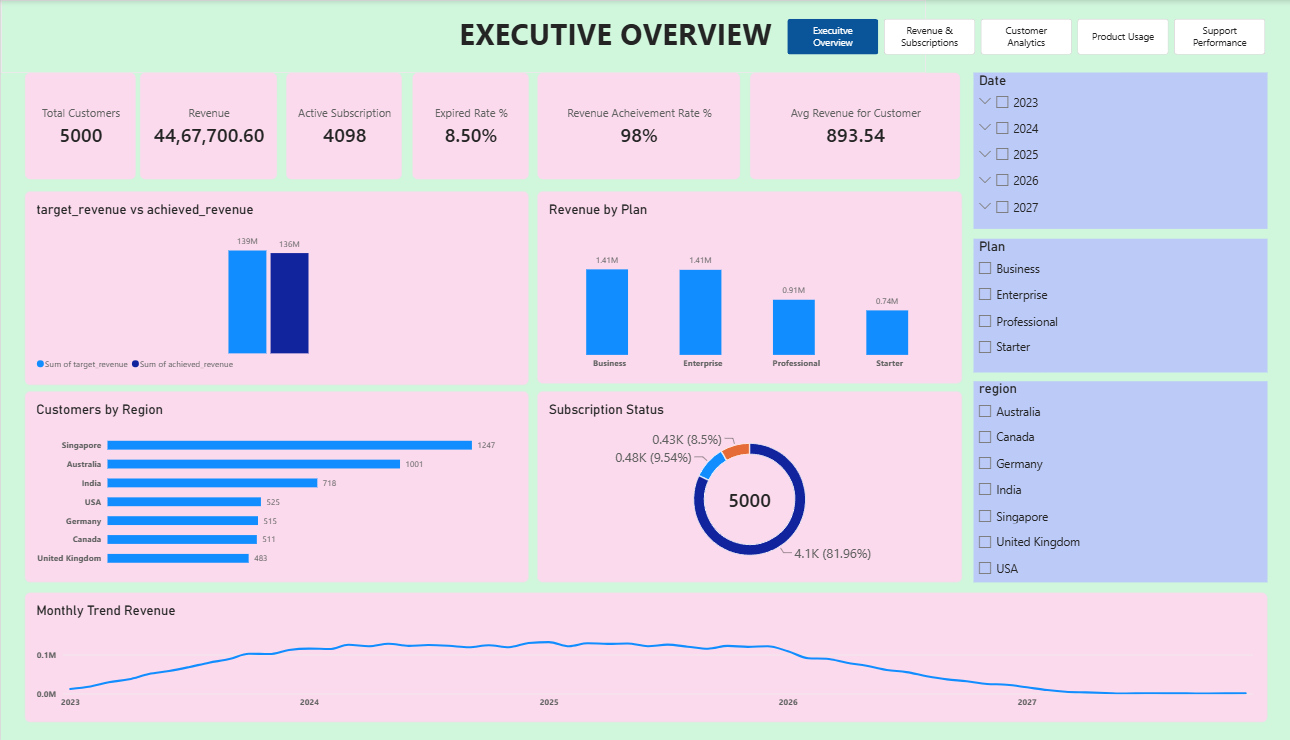

The dashboard page shown, as its layout file describes it:
{"tool":"powerbi","page":{"name":"Execuitve Overview","canvas":[1920,1080],"ordinal":0},"visuals":[{"type":"textbox","box":[0,0,1340,105],"z":0},{"type":"pageNavigator","box":[1138.3,27.1,694.9,52.5],"z":1000},{"type":"cardVisual","fields":{"Data":["flowstack_analytics invoices.Avg Revenue for Customer"]},"box":[1138.3,300.4,253.4,155.6],"z":2000},{"type":"cardVisual","fields":{"Data":["flowstack_analytics subscriptions.Expired Rate %"]},"box":[595.4,105,169,155],"z":3000},{"type":"cardVisual","fields":{"Data":["flowstack_analytics subscriptions.Revenue Acheivement Rate %"]},"box":[776.3,105,295,155.6],"z":4000},{"type":"cardVisual","fields":{"Data":["flowstack_analytics customers.Total Customers"]},"box":[34.4,105,161.1,155.6],"z":5000},{"type":"cardVisual","fields":{"Data":["flowstack_analytics subscriptions.Active Subscription"]},"box":[412.6,105,168.3,155.6],"z":6000},{"type":"lineChart","title":"Monthly Trend Revenue","fields":{"Y":["flowstack_analytics invoices.Revenue"],"Category":["flowstack_analytics invoices.invoice_date.Variation.Date Hierarchy.Year","flowstack_analytics invoices.invoice_date.Variation.Date Hierarchy.Month"]},"box":[34.4,857.8,1798.8,188.2],"z":7000},{"type":"columnChart","title":"Revenue by Plan","fields":{"Y":["flowstack_analytics invoices.Revenue"],"Category":["flowstack_analytics plans.plan_name"]},"box":[776.3,276.9,615.3,278.7],"z":8000},{"type":"clusteredBarChart","title":"Customers by Region","fields":{"Category":["flowstack_analytics account_managers.region"],"Y":["flowstack_analytics customers.Total Customers"]},"box":[34.4,566.4,729.3,276.9],"z":9000},{"type":"donutChart","title":"Subscription Status","fields":{"Category":["flowstack_analytics subscriptions.subscription_status"],"Y":["CountNonNull(flowstack_analytics subscriptions.subscription_id)"]},"box":[776.3,566.4,615.3,276.9],"z":10000},{"type":"clusteredColumnChart","title":"target_revenue vs achieved_revenue","fields":{"Y":["Sum(flowstack_analytics monthly_targets.target_revenue)","Sum(flowstack_analytics monthly_targets.achieved_revenue)"]},"box":[34.4,276.9,729.3,280.5],"z":11000},{"type":"slicer","fields":{"Values":["flowstack_analytics account_managers.region"]},"box":[1407.9,551.9,425.3,291.4],"z":12000},{"type":"slicer","fields":{"Values":["flowstack_analytics plans.plan_name"]},"box":[1407.9,345.6,425.3,193.6],"z":13000},{"type":"slicer","title":"Date","fields":{"Values":["flowstack_analytics invoices.invoice_date.Variation.Date Hierarchy.Year","flowstack_analytics invoices.invoice_date.Variation.Date Hierarchy.Quarter","flowstack_analytics invoices.invoice_date.Variation.Date Hierarchy.Month","flowstack_analytics invoices.invoice_date.Variation.Date Hierarchy.Day"]},"box":[1407.9,105,425.3,226.2],"z":14000},{"type":"cardVisual","fields":{"Data":["flowstack_analytics invoices.Avg Revenue for Customer"]},"box":[1084,105,305.8,155.6],"z":15000},{"type":"cardVisual","fields":{"Data":["flowstack_analytics invoices.Revenue"]},"box":[200.9,105,199.1,155.6],"z":16000}]}

Visuals, with their boxes in screenshot pixels (x1, y1, x2, y2), scaled from the page's 1920x1080 canvas onto the 1290x740 screenshot:
textbox: [0,0,900,72]
pageNavigator: [765,19,1232,55]
cardVisual - flowstack_analytics invoices.Avg Revenue for Customer: [765,206,935,312]
cardVisual - flowstack_analytics subscriptions.Expired Rate %: [400,72,514,178]
cardVisual - flowstack_analytics subscriptions.Revenue Acheivement Rate %: [522,72,720,179]
cardVisual - flowstack_analytics customers.Total Customers: [23,72,131,179]
cardVisual - flowstack_analytics subscriptions.Active Subscription: [277,72,390,179]
"Monthly Trend Revenue" lineChart: [23,588,1232,717]
"Revenue by Plan" columnChart: [522,190,935,381]
"Customers by Region" clusteredBarChart: [23,388,513,578]
"Subscription Status" donutChart: [522,388,935,578]
"target_revenue vs achieved_revenue" clusteredColumnChart: [23,190,513,382]
slicer - flowstack_analytics account_managers.region: [946,378,1232,578]
slicer - flowstack_analytics plans.plan_name: [946,237,1232,369]
"Date" slicer: [946,72,1232,227]
cardVisual - flowstack_analytics invoices.Avg Revenue for Customer: [728,72,934,179]
cardVisual - flowstack_analytics invoices.Revenue: [135,72,269,179]
